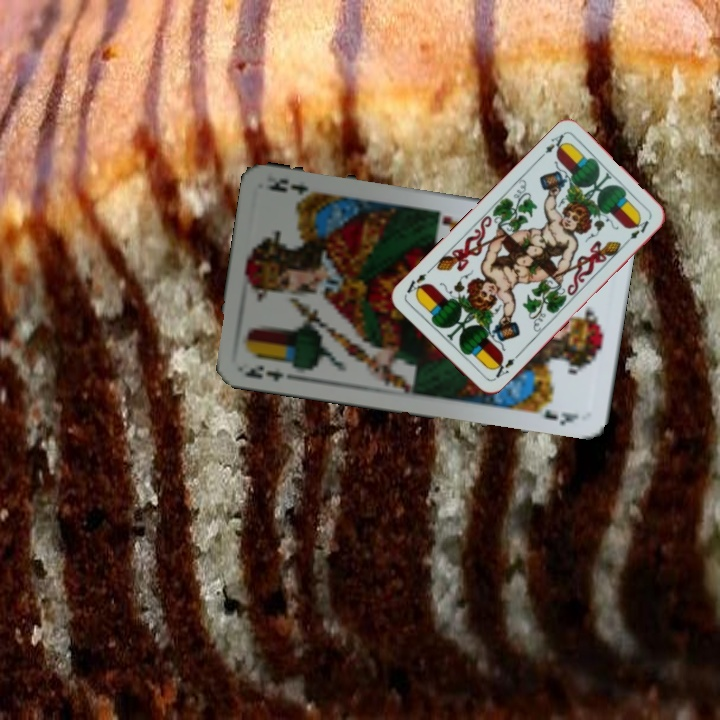EA: (535, 130, 569, 162), (488, 354, 517, 383)
EK: (240, 361, 296, 384)
